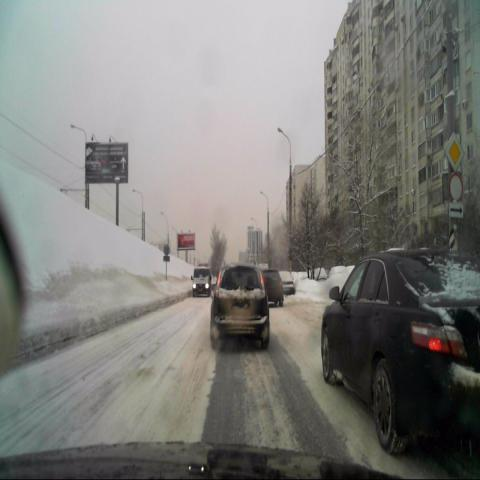2_1: (443, 131, 465, 171)
3_2: (448, 172, 464, 201)
8_3_1: (449, 203, 464, 219)
